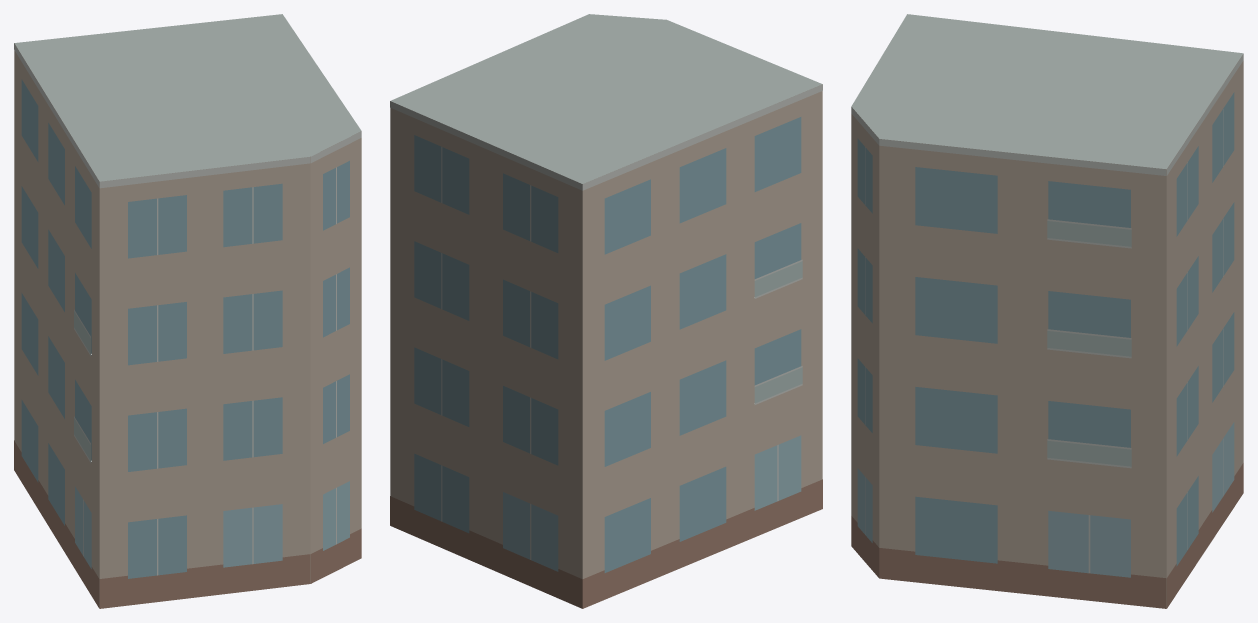
The model's file is survey-upis-32797834.glb.
The picture shows the model from 3 angles, left to right: view 1: azimuth 30°, elevation 25°; view 2: azimuth 150°, elevation 25°; view 3: azimuth 270°, elevation 25°; orthographic projection. The views are drawn at different scales.
Parts seen in each view (by area): view 1: survey-upis-32797834.tmp; view 2: survey-upis-32797834.tmp; view 3: survey-upis-32797834.tmp.
Part boxes in pixels (box(x1,y1,x2,y2)): survey-upis-32797834.tmp: box(14, 14, 361, 608); survey-upis-32797834.tmp: box(390, 14, 822, 608); survey-upis-32797834.tmp: box(851, 14, 1243, 608).
Bounding box in the file's own units: 11.86 × 15.65 × 12.67.
